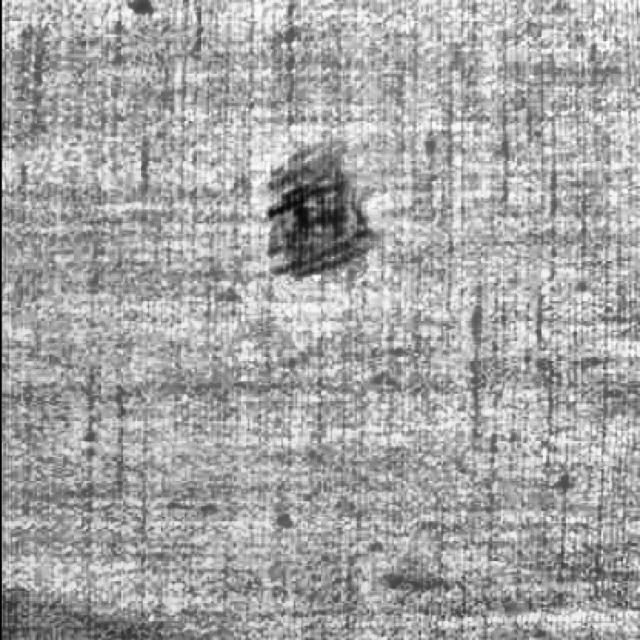oil_spot: (244, 127, 390, 299)
